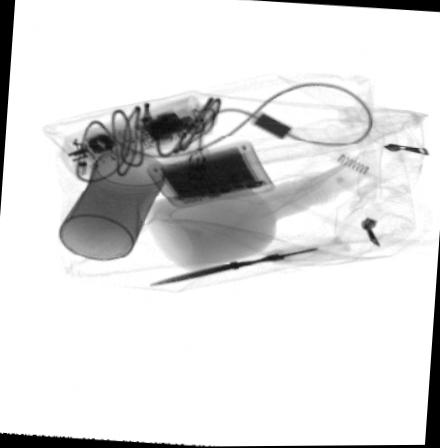Powerbank: (142, 138, 278, 211)
Scissors: (142, 234, 357, 290)
